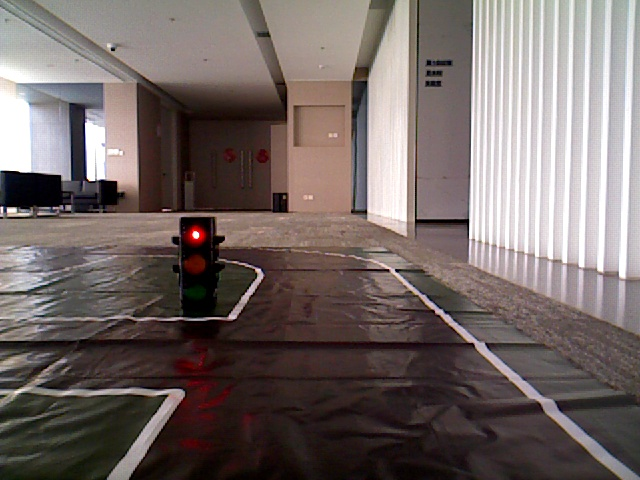red: (177, 221, 212, 305)
